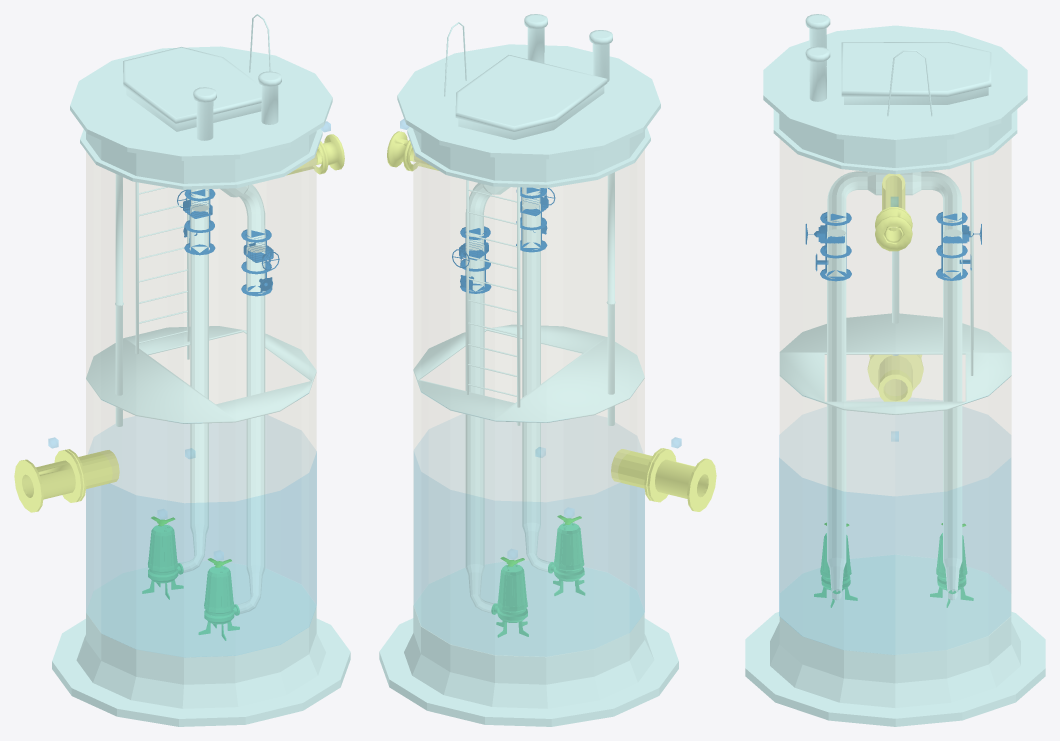
The picture shows the model from 3 angles, left to right: view 1: azimuth 30°, elevation 25°; view 2: azimuth 150°, elevation 25°; view 3: azimuth 270°, elevation 25°; orthographic projection. The views are drawn at different scales.
Parts seen in each view (by area): view 1: guanti, guanti001, guandi, guanding, object 11, zhishengwanguan, object 10, jinshuikou, object 8, qianshuibeng2, qianshuibeng003, zhishufa2 (+2 smaller); view 2: guanti, guanti001, guandi, guanding, object 11, zhishengwanguan, object 10, jinshuikou, object 8, qianshuibeng2, qianshuibeng003, zhishufa003 (+2 smaller); view 3: guanti, guanti001, guandi, guanding, zhishengwanguan, object 11, object 10, jinshuikou, object 8, object 7, zhishufa2, zhishufa003 (+3 smaller).
Boxes of the visible parts, <box> form: guanti: <box>86,152,316,656</box>; guanti001: <box>86,415,316,657</box>; guandi: <box>52,561,350,726</box>; guanding: <box>70,46,332,189</box>; object 11: <box>86,174,316,426</box>; zhishengwanguan: <box>181,184,265,613</box>; object 10: <box>123,47,261,131</box>; jinshuikou: <box>14,449,119,512</box>; object 8: <box>193,71,281,140</box>; qianshuibeng2: <box>198,566,239,640</box>; qianshuibeng003: <box>142,524,183,599</box>; zhishufa2: <box>241,229,279,296</box>; guanti: <box>413,150,644,656</box>; guanti001: <box>414,432,644,656</box>; guandi: <box>379,561,678,726</box>; guanding: <box>397,44,660,188</box>; object 11: <box>413,172,644,425</box>; zhishengwanguan: <box>465,183,550,612</box>; object 10: <box>455,55,607,139</box>; jinshuikou: <box>611,448,716,511</box>; object 8: <box>524,14,612,82</box>; qianshuibeng2: <box>548,522,585,595</box>; qianshuibeng003: <box>491,564,528,637</box>; zhishufa003: <box>452,226,491,293</box>; guanti: <box>780,139,1011,654</box>; guanti001: <box>779,398,1010,654</box>; guandi: <box>745,555,1045,726</box>; guanding: <box>763,25,1027,174</box>; zhishengwanguan: <box>827,171,962,600</box>; object 11: <box>779,161,1011,414</box>; object 10: <box>841,42,991,104</box>; jinshuikou: <box>867,354,923,401</box>; object 8: <box>805,14,830,101</box>; object 7: <box>875,207,912,251</box>; zhishufa2: <box>805,212,851,281</box>; zhishufa003: <box>936,212,981,280</box>.
Size of what is drawn, in the model's own units: 516 by 1007 by 425.
